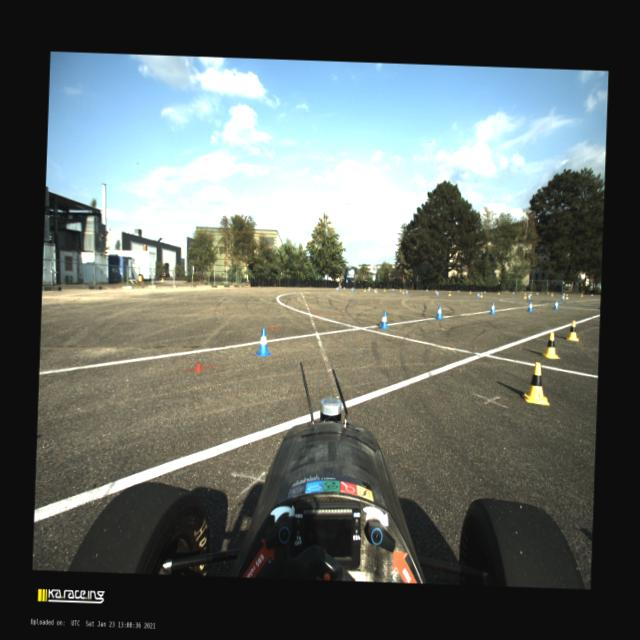blue_cone: (254, 327, 272, 356), (379, 310, 389, 328), (436, 304, 444, 319), (490, 302, 496, 314), (527, 301, 533, 312), (553, 300, 558, 308), (561, 294, 564, 300), (528, 294, 530, 300), (436, 290, 438, 296), (477, 292, 479, 298), (350, 286, 352, 292), (335, 286, 337, 291), (405, 290, 407, 294), (536, 292, 538, 296), (512, 290, 514, 294), (457, 290, 459, 294), (392, 287, 394, 291), (373, 288, 375, 292), (343, 286, 345, 290), (336, 286, 338, 290), (562, 292, 564, 296), (590, 293, 592, 296), (484, 290, 486, 293), (426, 288, 427, 292), (352, 286, 353, 290)
yellow_cone: (522, 361, 550, 405), (542, 332, 560, 358), (566, 320, 579, 341), (448, 290, 451, 296), (402, 288, 404, 294), (524, 293, 526, 298), (367, 286, 369, 291), (580, 292, 582, 296), (566, 294, 568, 298), (550, 292, 552, 296), (530, 292, 532, 296), (498, 290, 500, 294), (480, 292, 482, 296), (469, 290, 471, 294), (434, 288, 436, 292), (399, 288, 401, 292), (383, 287, 385, 291), (363, 287, 365, 291), (375, 288, 377, 292)
